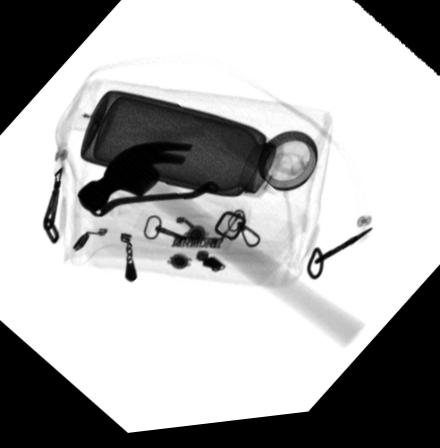Hammer: (73, 145, 366, 356)
Wrench: (91, 183, 216, 219)
